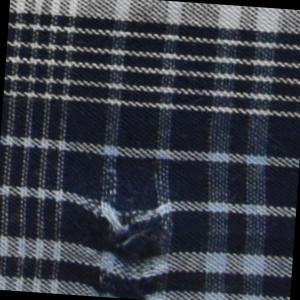Damage: (80, 182, 177, 300)
